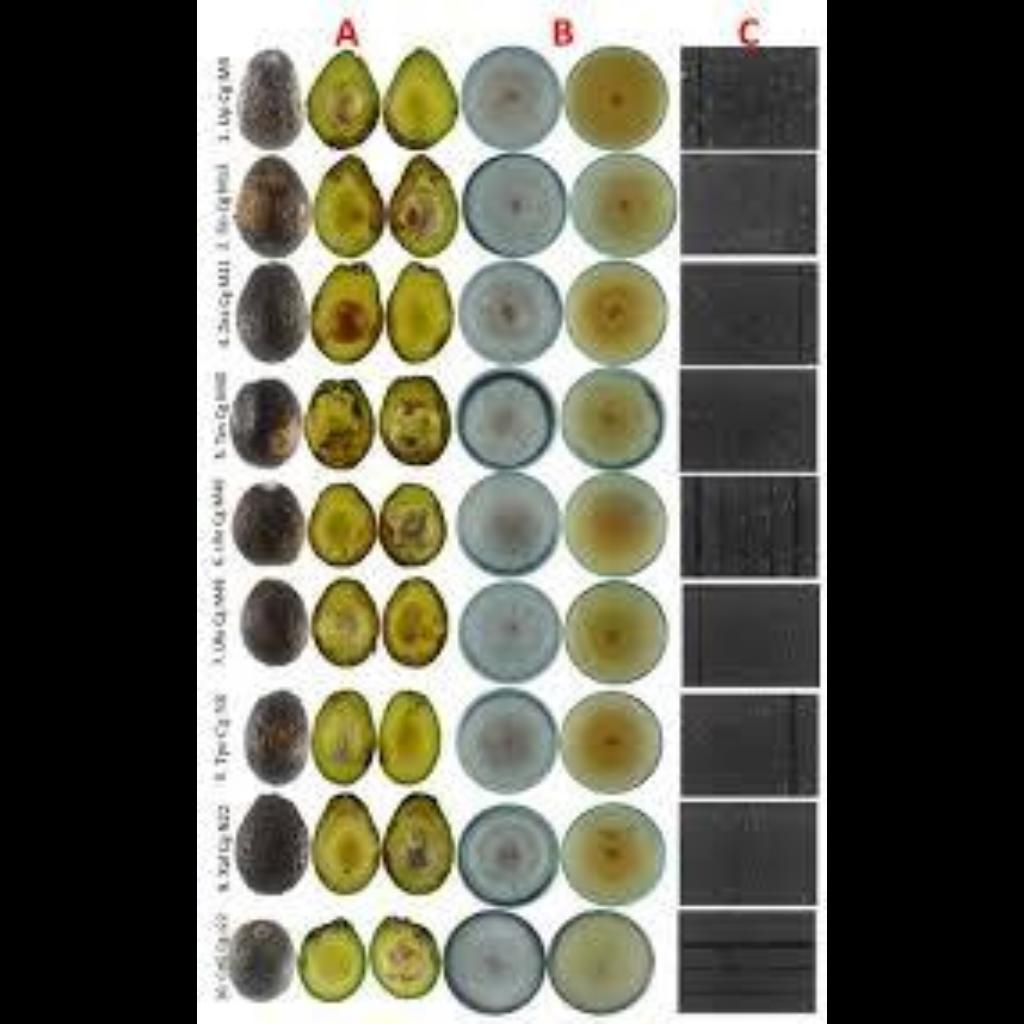Anthracnose: (208, 50, 440, 988)
